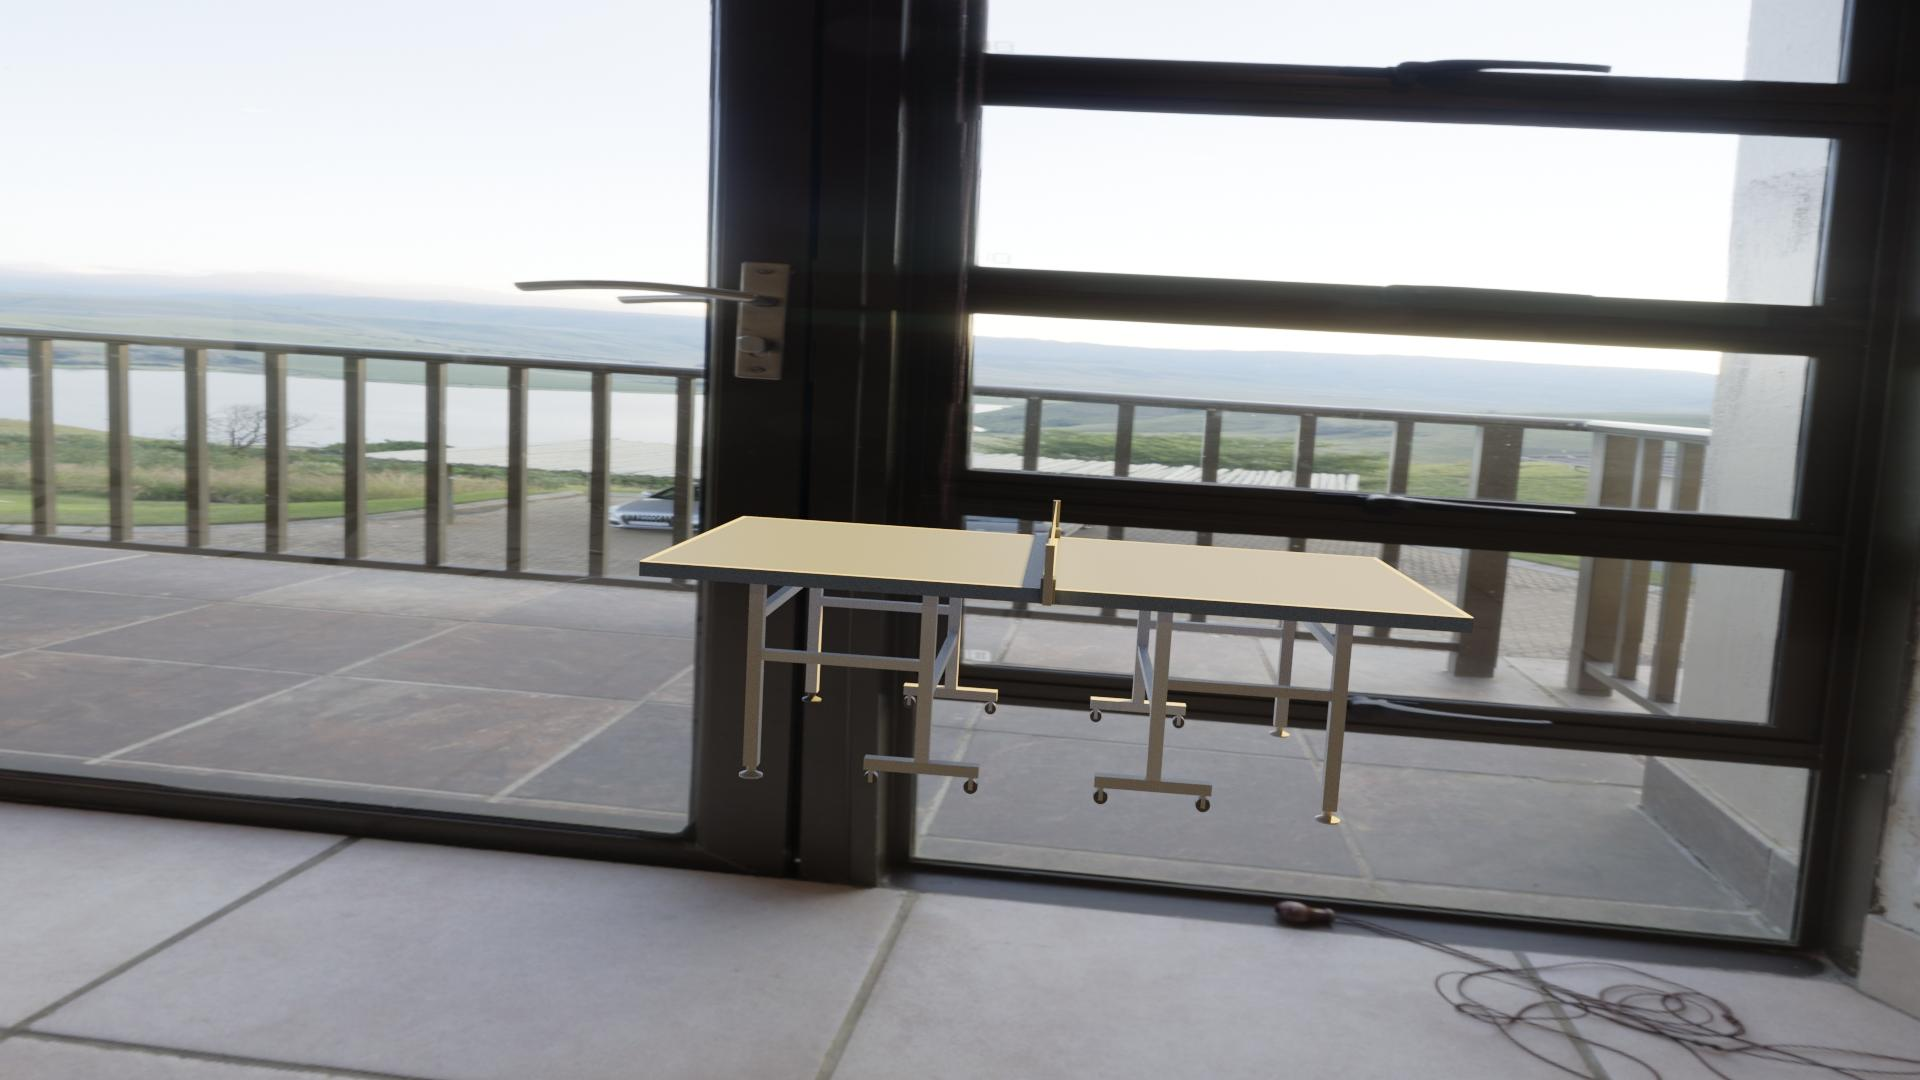table: (647, 517, 1466, 617)
